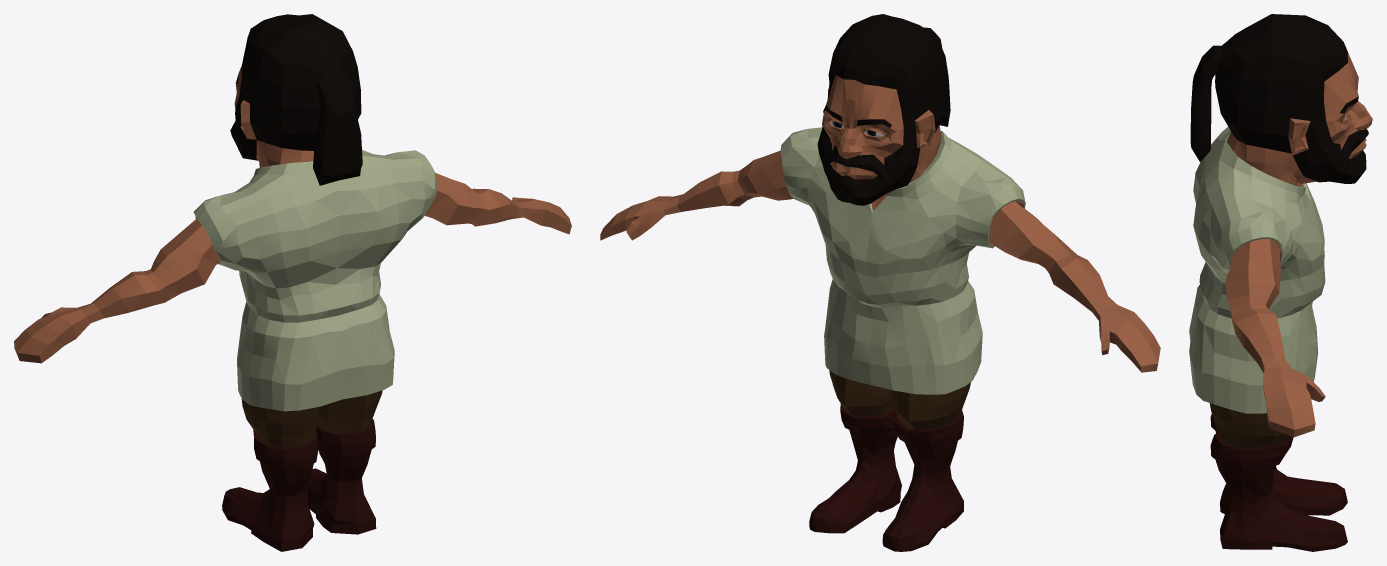
Rendered from player.obj.
3 renders of one model, left to right at view 1: azimuth 30°, elevation 25°; view 2: azimuth 150°, elevation 25°; view 3: azimuth 270°, elevation 25°, orthographic.
Visible parts, largest first — view 1: player:Main_Char; view 2: player:Main_Char; view 3: player:Main_Char.
Boxes of the visible parts, <box> form: player:Main_Char: <box>14,14,571,551</box>; player:Main_Char: <box>600,14,1160,551</box>; player:Main_Char: <box>1189,14,1372,551</box>.
Size of the model in its own units: 4.39 by 3.79 by 1.24.
